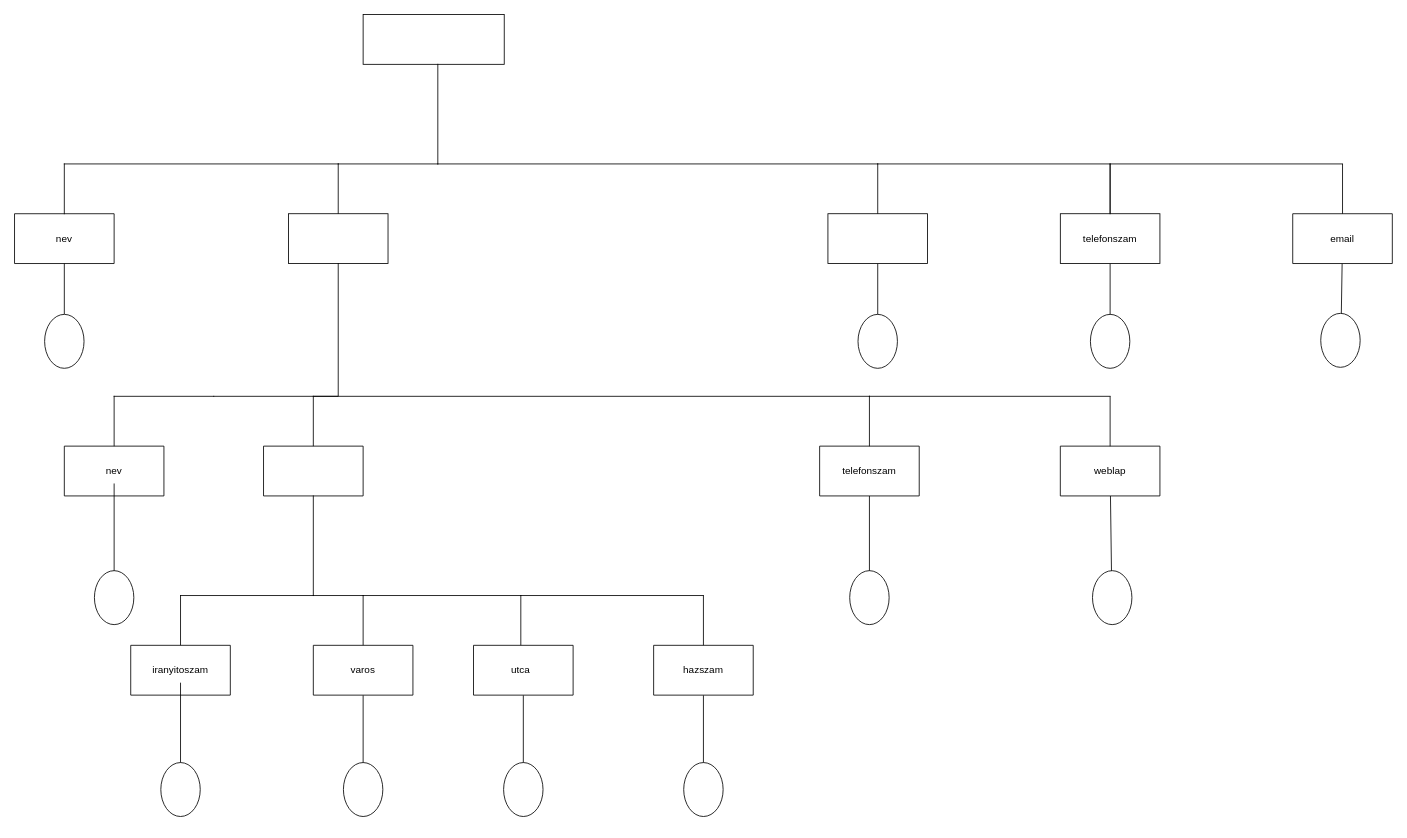
This 1407x838 diagram has some shape labels left out. The shapes that lost their labels are listed below. From the top down, each one's box as (x1, y1, x2, y2) in pixels, then its label:
(362, 14, 504, 64): nevjegykartya
(288, 213, 388, 264): ceg
(827, 213, 928, 264): beosztas
(263, 445, 363, 496): cim
